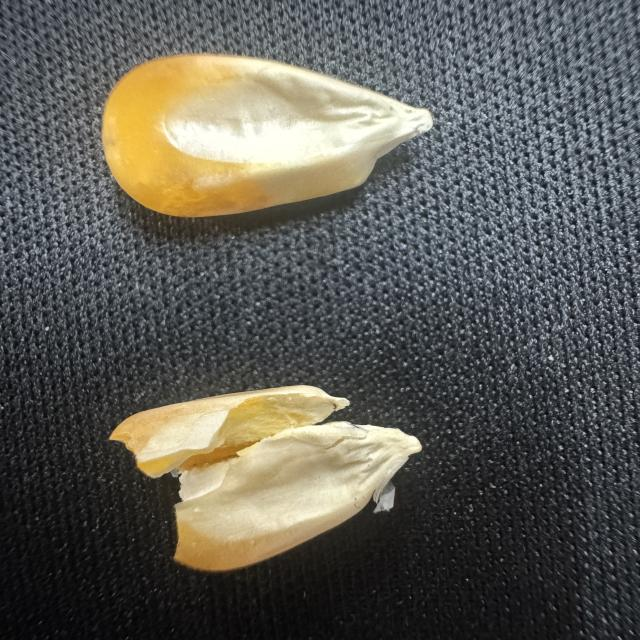Bad-Seed: (87, 368, 423, 580)
Good-Seed: (84, 48, 441, 224)
